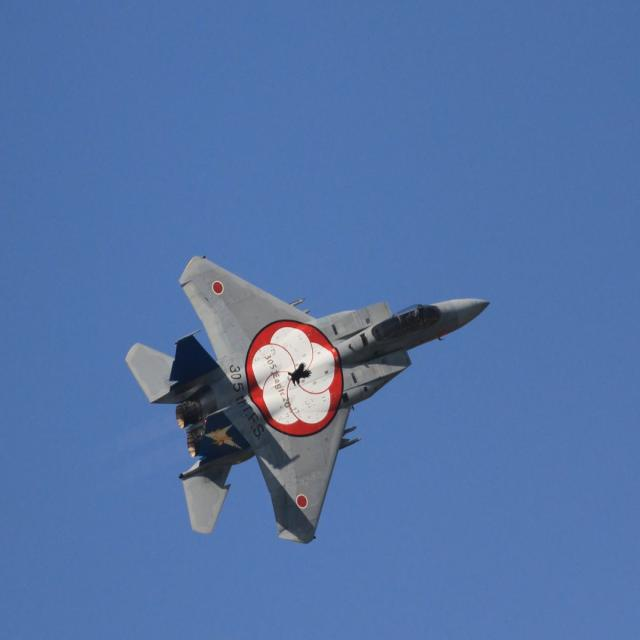MIL_Plane: (124, 254, 491, 544)
